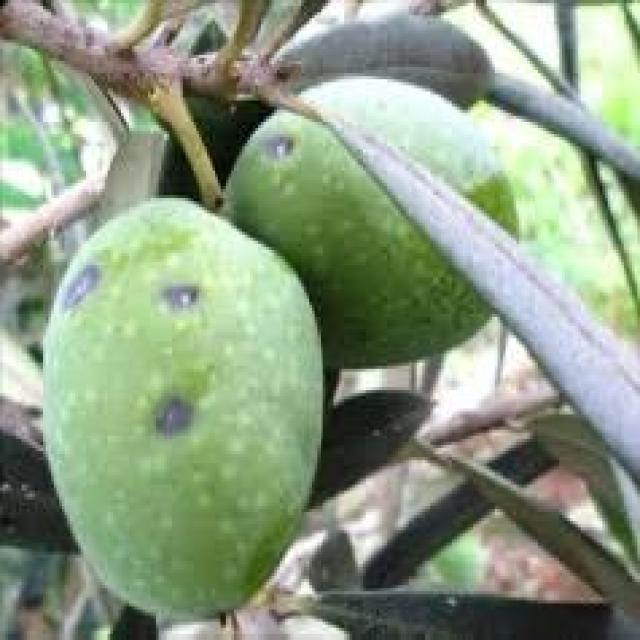Anthracnose: (46, 198, 320, 616)
